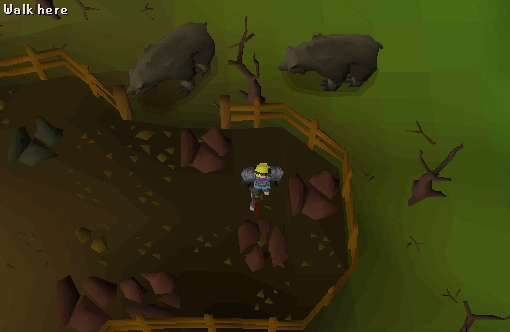coal: (3, 114, 68, 177)
iron: (173, 116, 236, 176), (284, 164, 347, 224), (228, 214, 291, 274), (117, 266, 180, 326)
